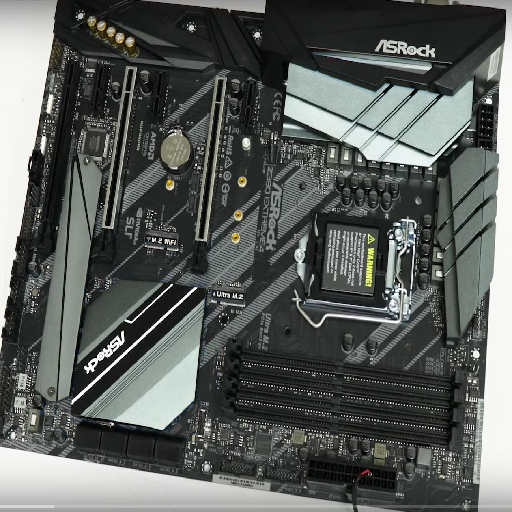CPU: (292, 210, 418, 321)
GPU: (89, 63, 140, 262), (186, 73, 230, 276)
MOTHERBOARD: (1, 1, 506, 506)
RAM: (220, 336, 469, 455)
SSD: (141, 226, 184, 258), (206, 282, 249, 309)
